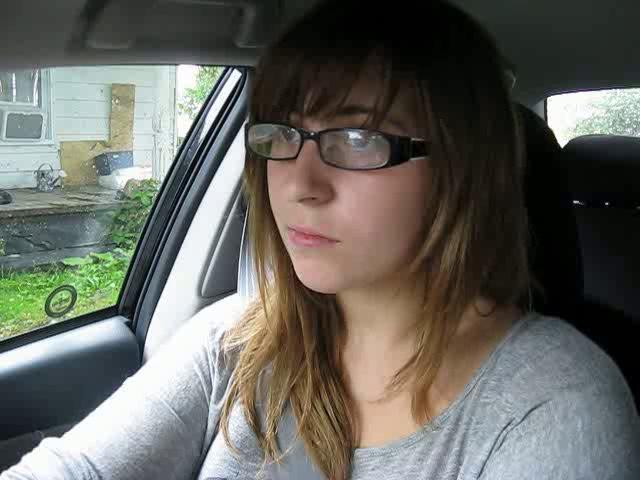no_yawn: (270, 213, 354, 264)
open_eyeL: (269, 115, 308, 151)
open_eyeR: (317, 119, 403, 169)
